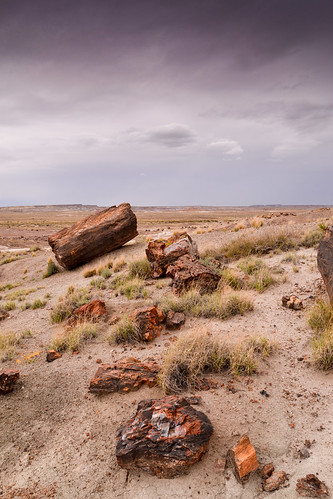rocks: (47, 213, 236, 490)
sky: (2, 1, 333, 200)
